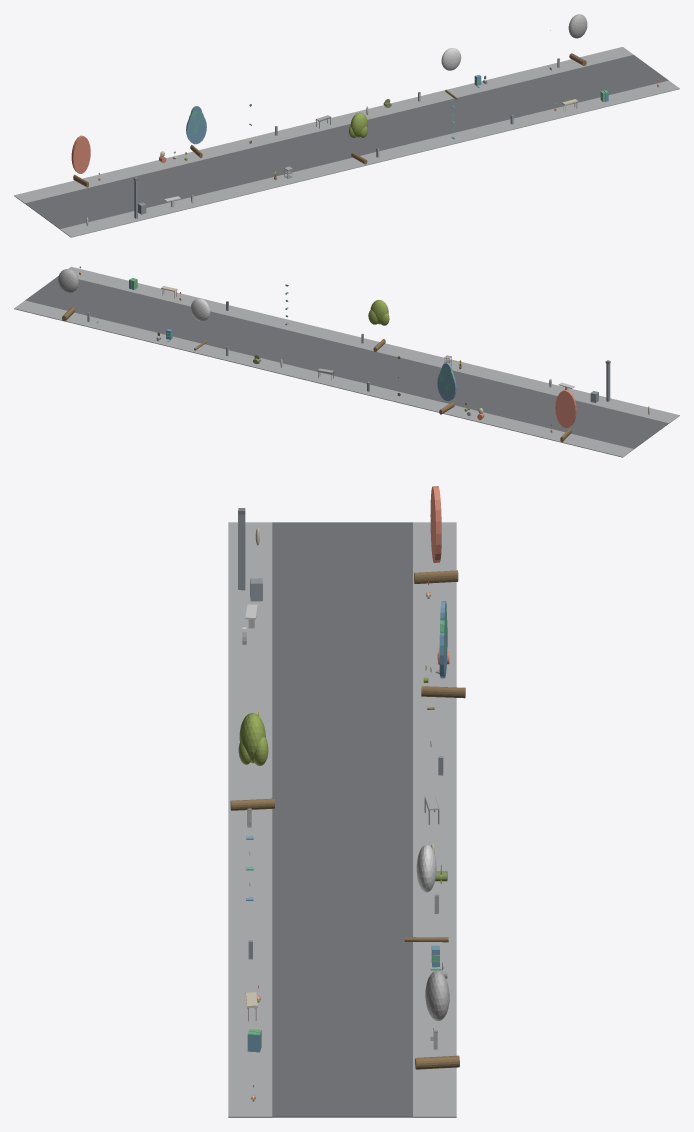
3 renders of one model, top to bottom at view 1: azimuth 30°, elevation 25°; view 2: azimuth 150°, elevation 25°; view 3: azimuth 270°, elevation 25°, orthographic. The views are drawn at different scales.
Visible parts, largest first — view 1: road_slab, sidewalk_left, sidewalk_right, inst_0012, inst_0013, inst_0014, inst_0016, inst_0015; view 2: road_slab, sidewalk_right, sidewalk_left, inst_0012, inst_0013, inst_0014, inst_0016, inst_0015; view 3: road_slab, sidewalk_left, sidewalk_right, inst_0014, inst_0016, inst_0012, inst_0013, inst_0015.
Boxes of the visible parts, bbox=[...] form: road_slab: bbox=[25, 55, 668, 228]; sidewalk_left: bbox=[60, 80, 679, 237]; sidewalk_right: bbox=[14, 47, 633, 203]; inst_0012: bbox=[71, 135, 90, 187]; inst_0013: bbox=[186, 106, 206, 157]; inst_0014: bbox=[348, 112, 367, 164]; inst_0016: bbox=[568, 14, 587, 65]; inst_0015: bbox=[441, 48, 461, 99]; road_slab: bbox=[25, 276, 668, 448]; sidewalk_right: bbox=[14, 300, 633, 457]; sidewalk_left: bbox=[68, 266, 679, 423]; inst_0012: bbox=[555, 390, 576, 442]; inst_0013: bbox=[437, 362, 456, 414]; inst_0014: bbox=[368, 300, 389, 351]; inst_0016: bbox=[58, 269, 78, 321]; inst_0015: bbox=[191, 298, 210, 350]; road_slab: bbox=[272, 522, 412, 1117]; sidewalk_left: bbox=[228, 522, 272, 1117]; sidewalk_right: bbox=[413, 522, 456, 1117]; inst_0014: bbox=[230, 712, 274, 810]; inst_0016: bbox=[415, 971, 459, 1069]; inst_0012: bbox=[414, 486, 458, 583]; inst_0013: bbox=[421, 601, 465, 698]; inst_0015: bbox=[404, 844, 448, 942].
Size of the model in its own units: 80 by 6.08 by 13.51.
